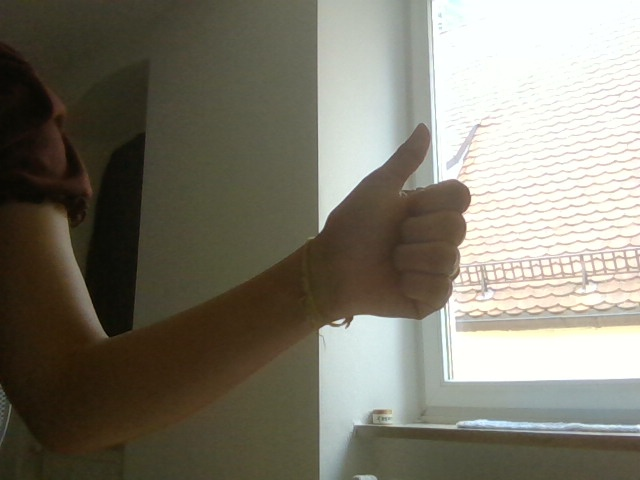Thumbs up: (311, 123, 470, 332)
